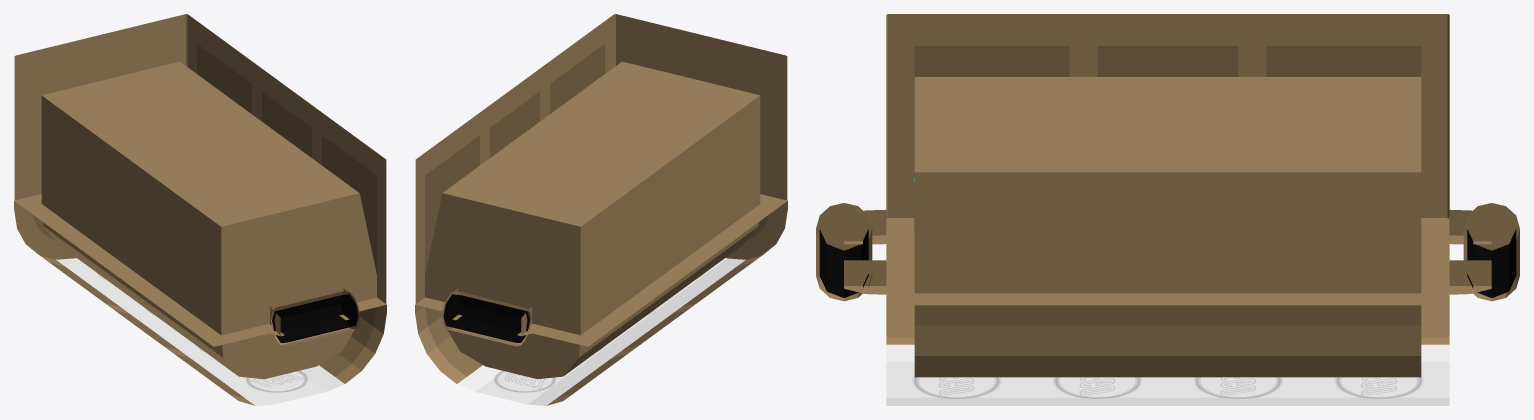
3 renders of one model, left to right at view 1: azimuth 30°, elevation 25°; view 2: azimuth 150°, elevation 25°; view 3: azimuth 270°, elevation 25°, orthographic. The views are drawn at different scales.
Visible parts, largest first — view 1: 024_L_473800_Base, 017_L_473800_Lid, 013_L_473800_PART_4, 022_L_473800_Handle_2; view 2: 024_L_473800_Base, 017_L_473800_Lid, 011_L_473800_PART_3, 020_L_473800_Handle_1; view 3: 024_L_473800_Base, 017_L_473800_Lid, 020_L_473800_Handle_1, 022_L_473800_Handle_2, 011_L_473800_PART_3, 013_L_473800_PART_4.
Boxes of the visible parts, x1,y1,x2,y2 form: 024_L_473800_Base: (14, 14, 386, 346); 017_L_473800_Lid: (14, 201, 386, 405); 013_L_473800_PART_4: (272, 294, 358, 342); 022_L_473800_Handle_2: (257, 288, 359, 346); 024_L_473800_Base: (415, 14, 787, 346); 017_L_473800_Lid: (415, 201, 787, 405); 011_L_473800_PART_3: (443, 294, 529, 342); 020_L_473800_Handle_1: (442, 288, 544, 346); 024_L_473800_Base: (886, 14, 1449, 337); 017_L_473800_Lid: (886, 305, 1449, 405); 020_L_473800_Handle_1: (1449, 203, 1519, 301); 022_L_473800_Handle_2: (816, 203, 886, 301); 011_L_473800_PART_3: (1467, 229, 1516, 297); 013_L_473800_PART_4: (819, 229, 868, 297).
Bounding box in the file's own units: 1.6 × 1.92 × 4.
6 materials, 2 textured.
